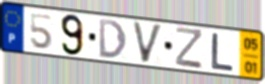5: (29, 11, 54, 50)
9: (58, 13, 86, 58)
D: (97, 17, 129, 60)
L: (210, 31, 235, 73)
V: (131, 20, 165, 66)
Z: (174, 26, 204, 71)
